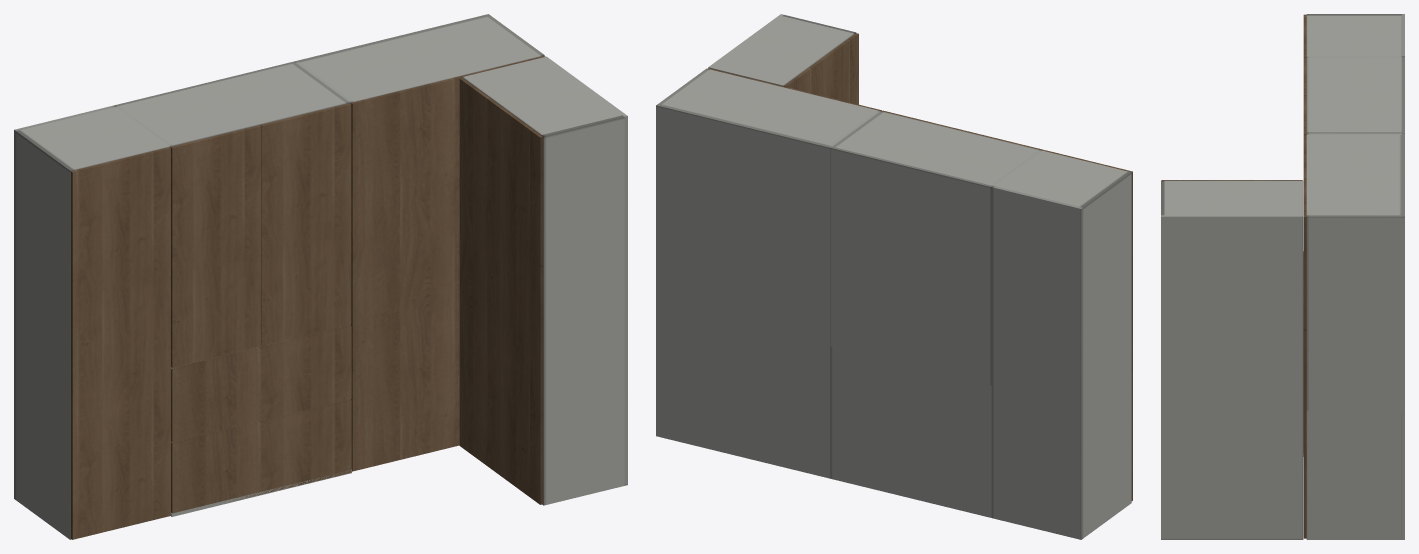
Rendered from meublep.glb.
3 renders of one model, left to right at view 1: azimuth 30°, elevation 25°; view 2: azimuth 150°, elevation 25°; view 3: azimuth 270°, elevation 25°, orthographic. The views are drawn at different scales.
Parts seen in each view (by area): view 1: world; view 2: world; view 3: world.
Part boxes in pixels (box(x1,y1,x2,y2)): world: box(14, 14, 627, 539); world: box(656, 14, 1132, 539); world: box(1161, 14, 1404, 539).
Size of the model in its own units: 2.69 by 2 by 1.37.
Materials: 1 (1 with a texture image).
